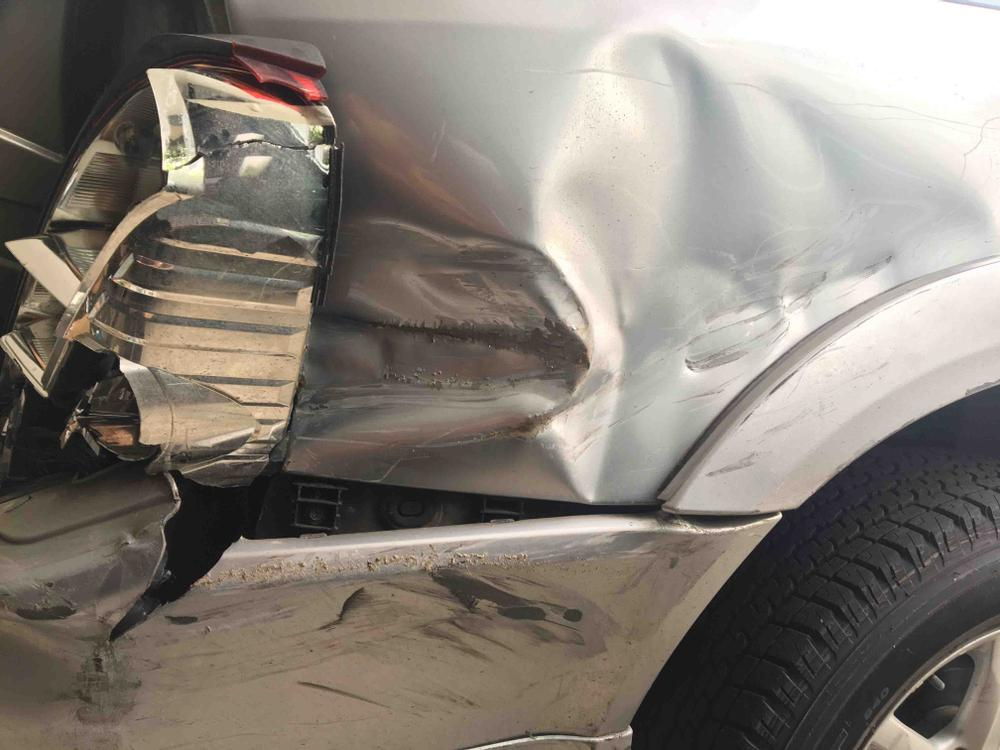crack: (109, 475, 237, 642)
dent: (287, 28, 992, 502)
lamp broken: (0, 57, 337, 492)
scratch: (0, 551, 627, 750), (710, 326, 891, 478)
